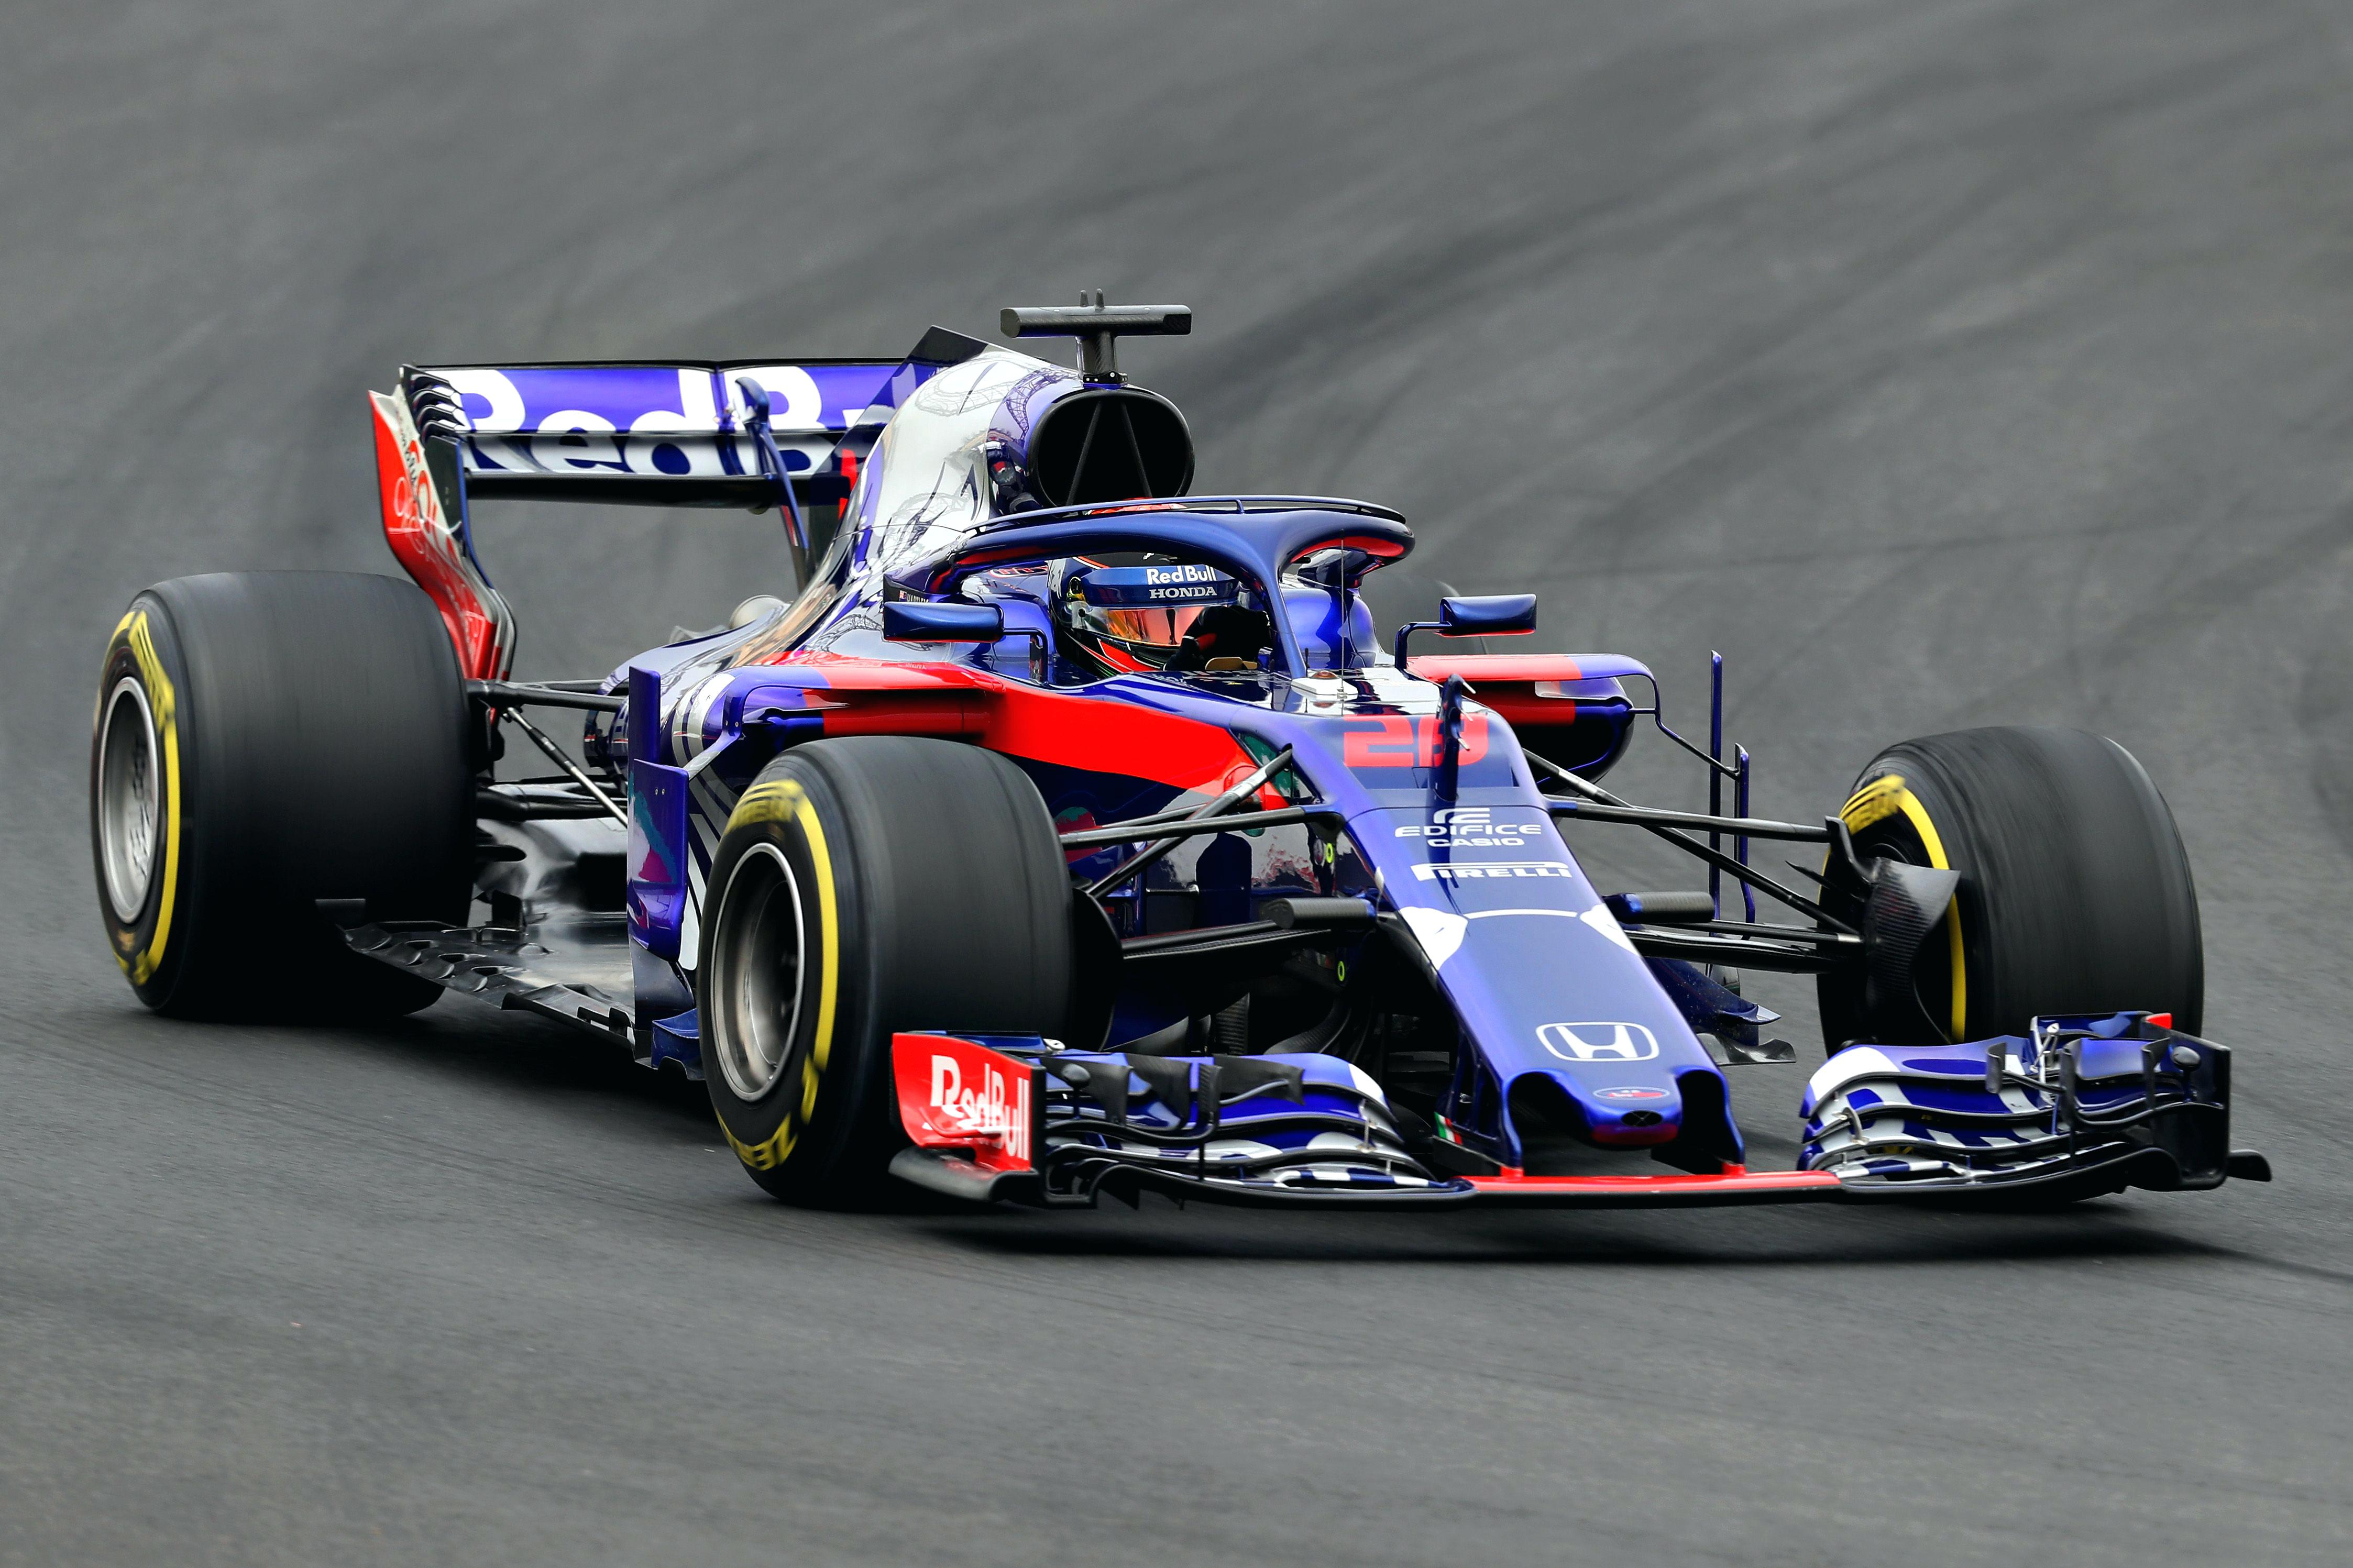f1_car: (59, 275, 2313, 1281)
helmet: (1050, 520, 1289, 698)
